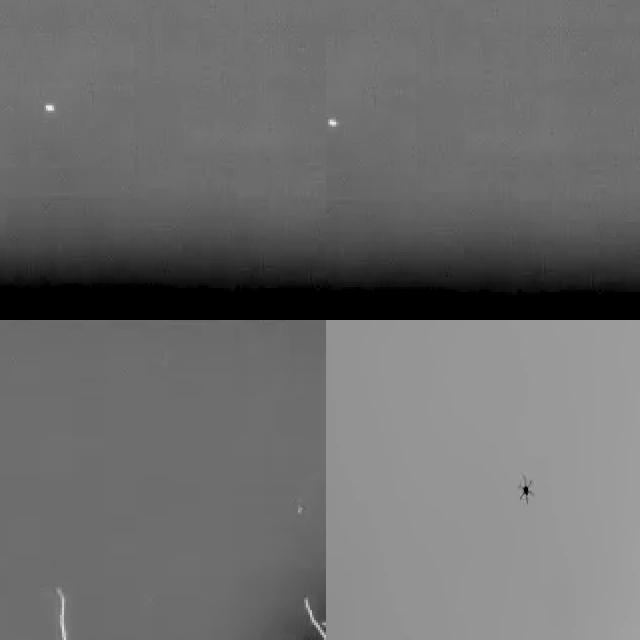0: (286, 499, 308, 526)
1: (32, 97, 60, 124), (326, 112, 343, 139)
drone: (518, 471, 541, 505)
